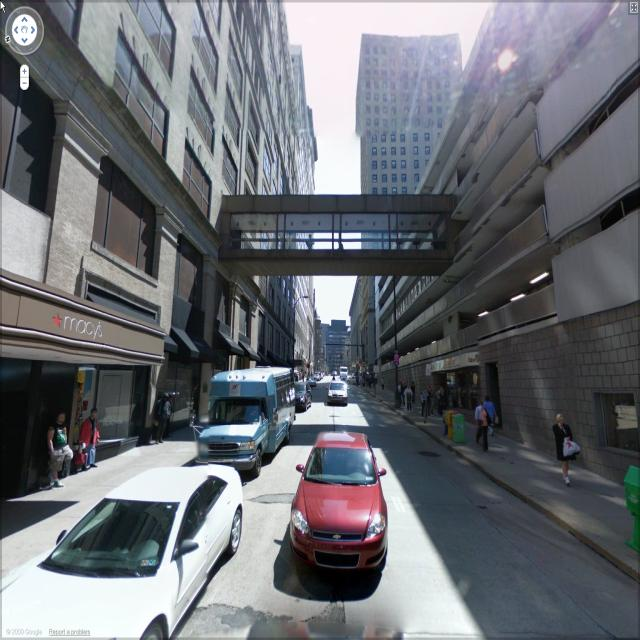b_1: (454, 1, 634, 458), (0, 21, 212, 391), (362, 27, 484, 236), (238, 10, 306, 371), (308, 314, 356, 390)
